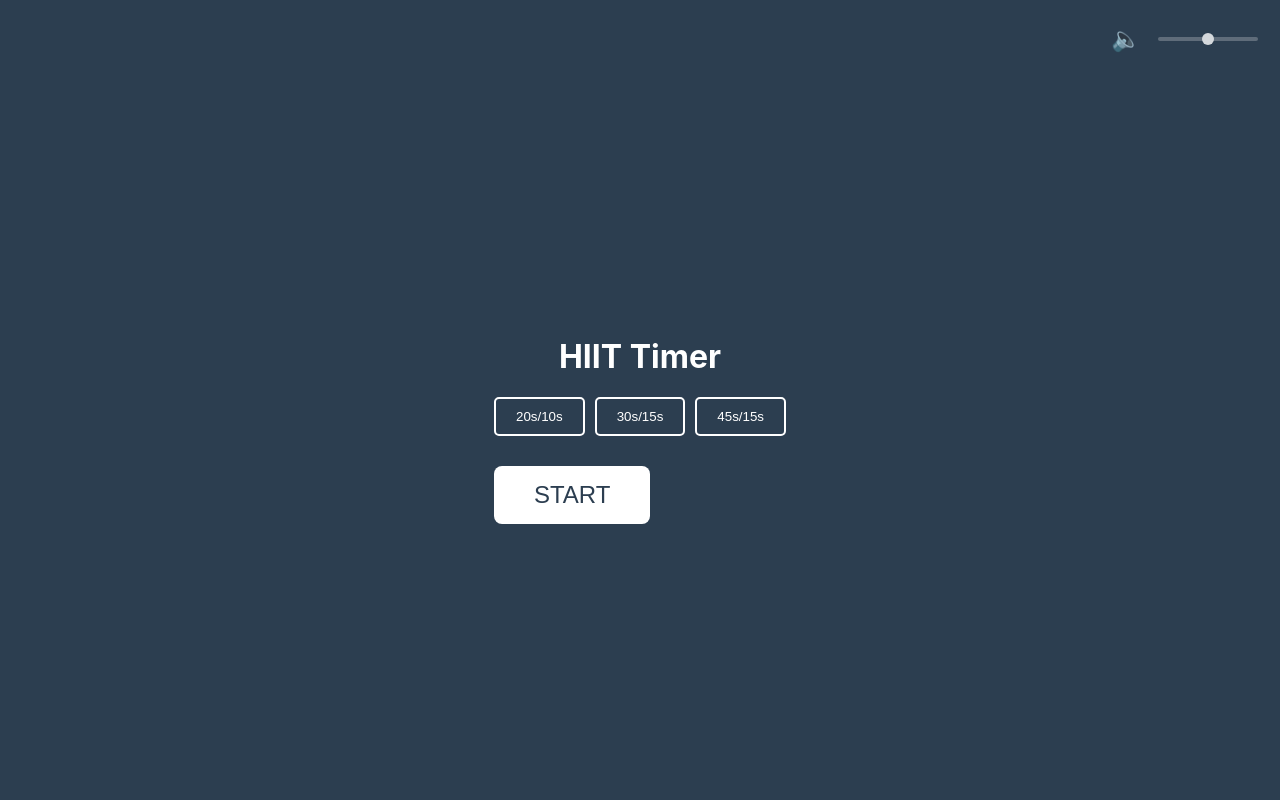
Scenario: App Component › shows reposition state during rest period
The image size is (1280, 800).
Click the button "START". click: {"x": 572, "y": 495}
box: [494,466,650,524]
Wait 29000 ms
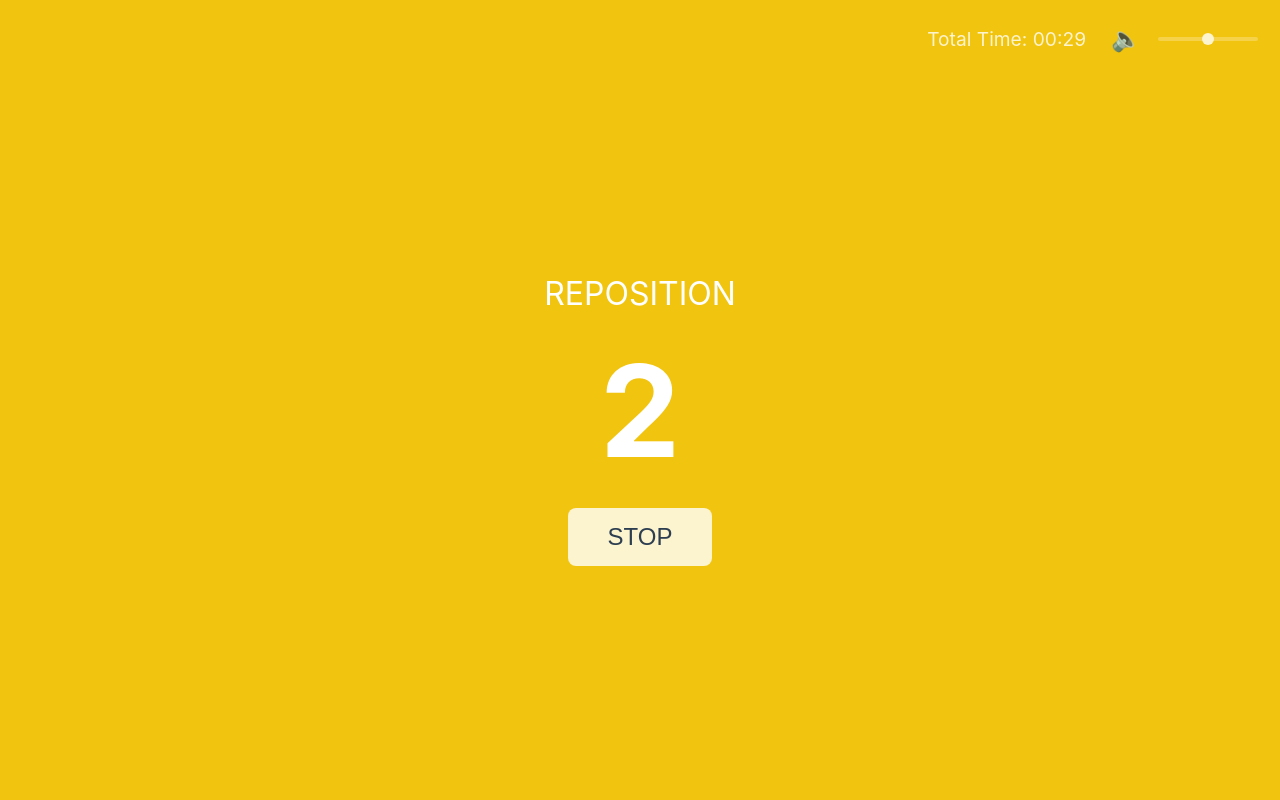
Check: the text "REPOSITION" is shown, box [544,274,736,313]
